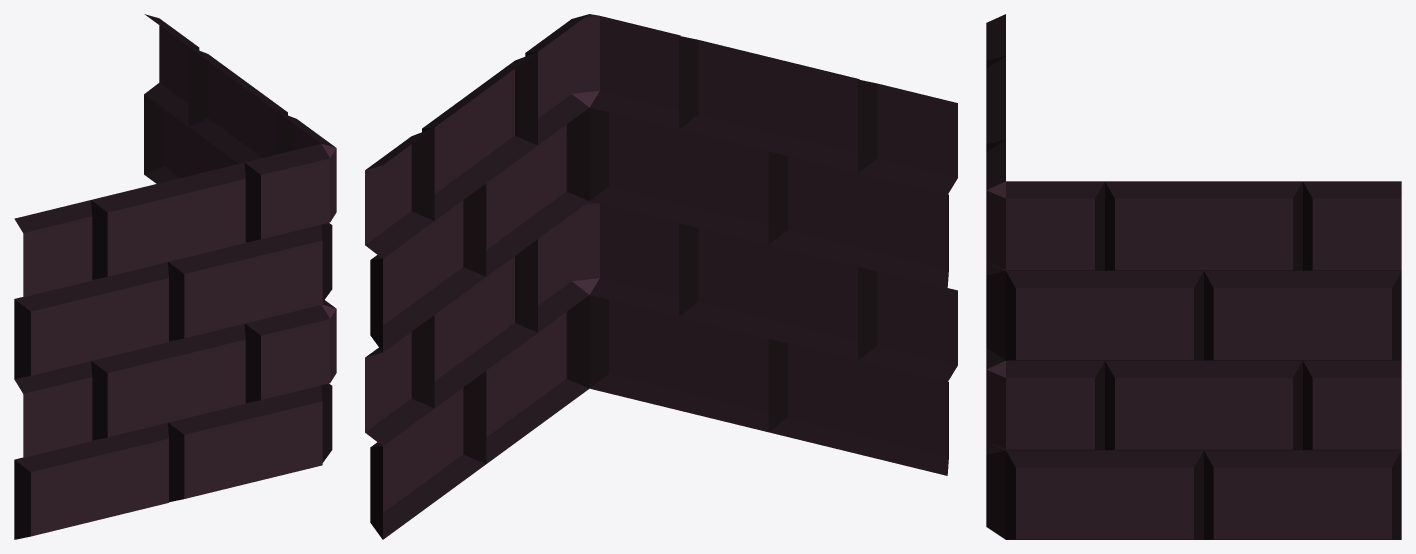
The model's file is wall_corner01.fbx.
3 renders of one model, left to right at view 1: azimuth 30°, elevation 25°; view 2: azimuth 150°, elevation 25°; view 3: azimuth 270°, elevation 25°, orthographic. The views are drawn at different scales.
Parts seen in each view (by area): view 1: wall_corner01; view 2: wall_corner01; view 3: wall_corner01.
Part boxes in pixels (x1=…): wall_corner01: x1=14, y1=14, x2=336, y2=539; wall_corner01: x1=365, y1=14, x2=957, y2=539; wall_corner01: x1=986, y1=14, x2=1401, y2=539.
Bounding box in the file's own units: 210 × 200 × 210.
